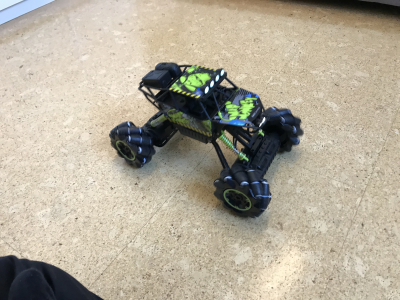remote control car: (104, 57, 306, 220)
